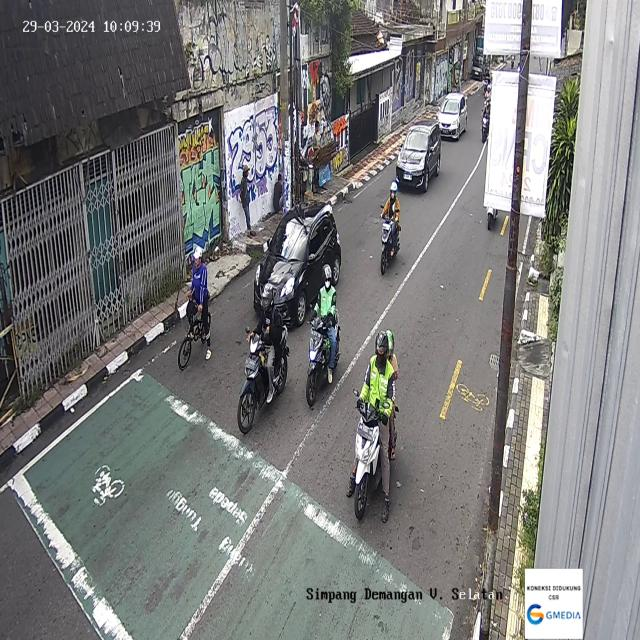car: (253, 200, 341, 329), (396, 121, 441, 192), (437, 91, 468, 140)
motorcycle: (346, 328, 403, 521), (237, 281, 289, 434), (305, 264, 341, 407), (379, 179, 401, 276), (480, 97, 492, 142)
